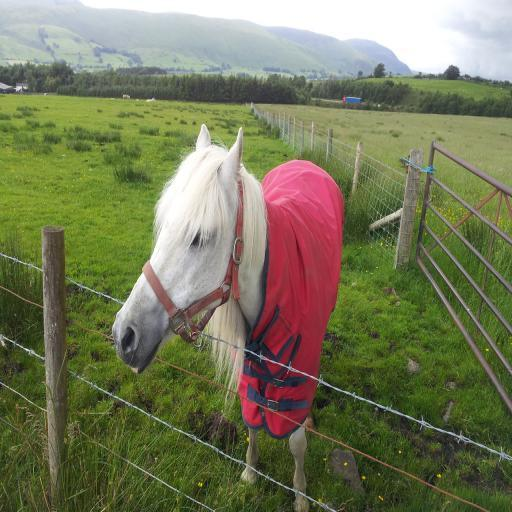horse: (111, 124, 345, 512)
